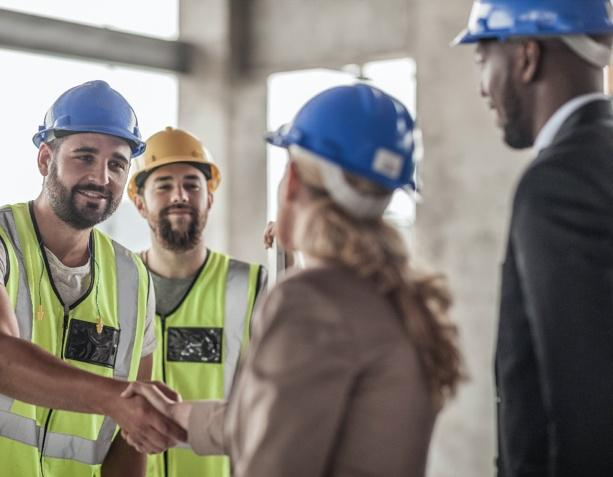helmet: (264, 83, 425, 196), (31, 81, 145, 157), (448, 1, 613, 51), (126, 126, 225, 207)
